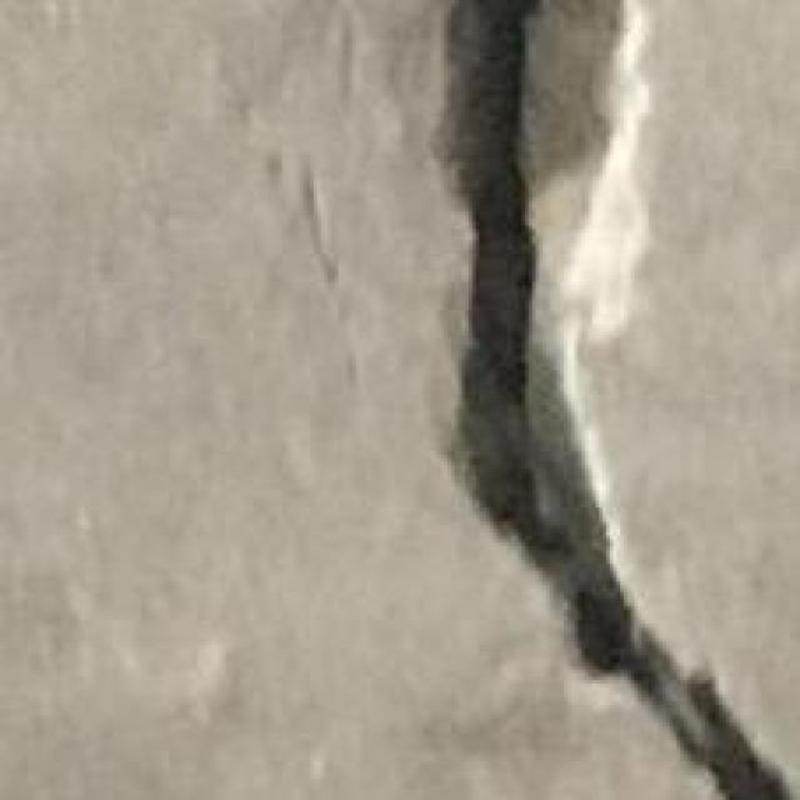pothole: (445, 0, 794, 799)
